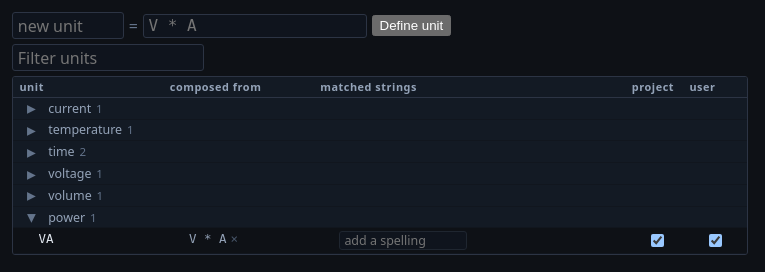
Test: composing a unit › deletes a composed unit from wherever it is defined
Expected: the list item "VA" is shown, [39, 231, 54, 246]
Click the button named "Delete the unit VA" at (234, 239), box [226, 233, 242, 245]
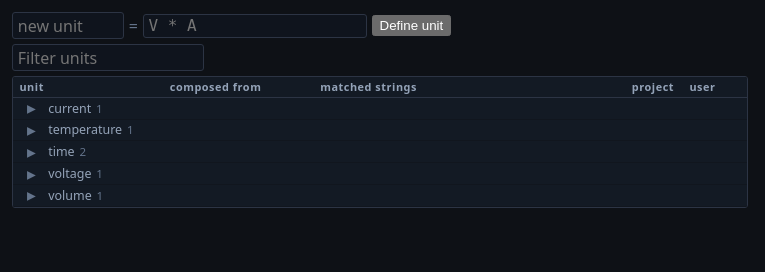
Expected: the text "VA" is gone
